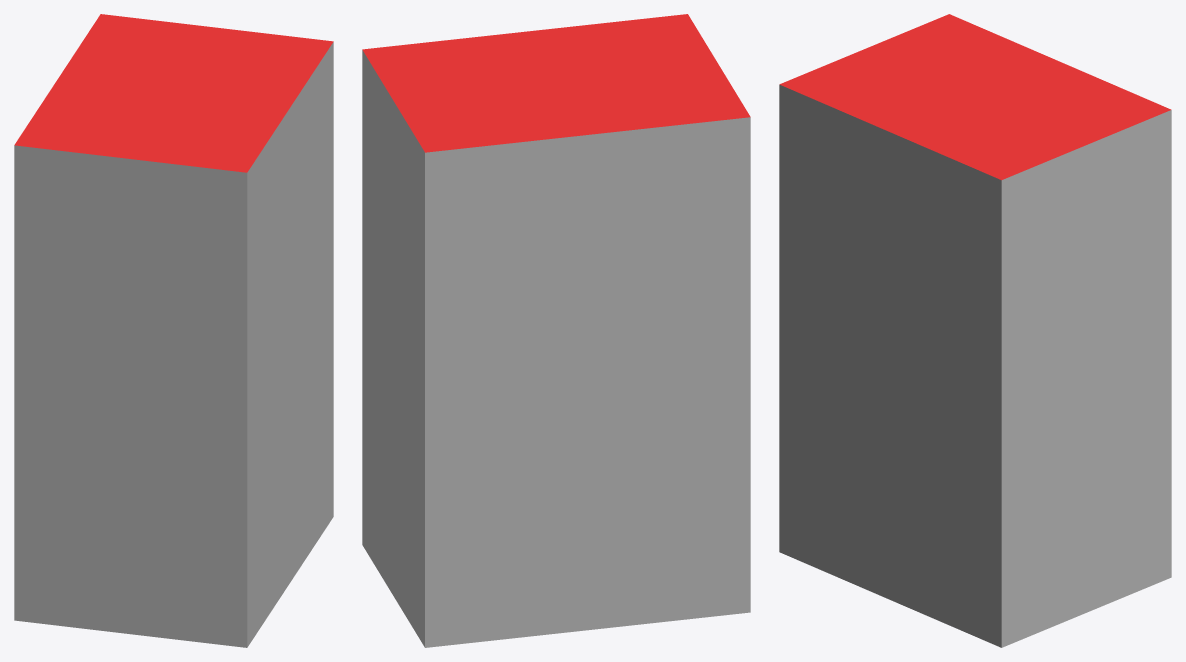
The model's file is ID_154e7139-9369-4136-9853-c6eed1069d7a.dae.
3 renders of one model, left to right at view 1: azimuth 30°, elevation 25°; view 2: azimuth 150°, elevation 25°; view 3: azimuth 270°, elevation 25°, orthographic. The views are drawn at different scales.
Bounding box in the file's own units: 9.91 × 9.89 × 13.
